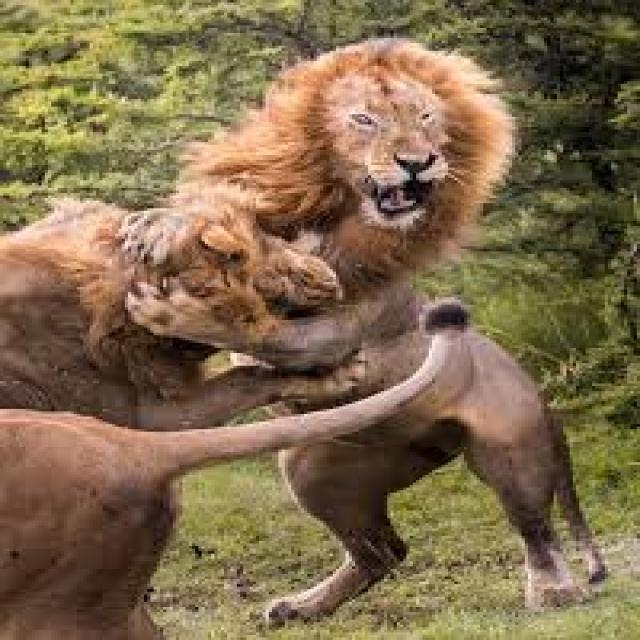Lion: (256, 45, 589, 617)
